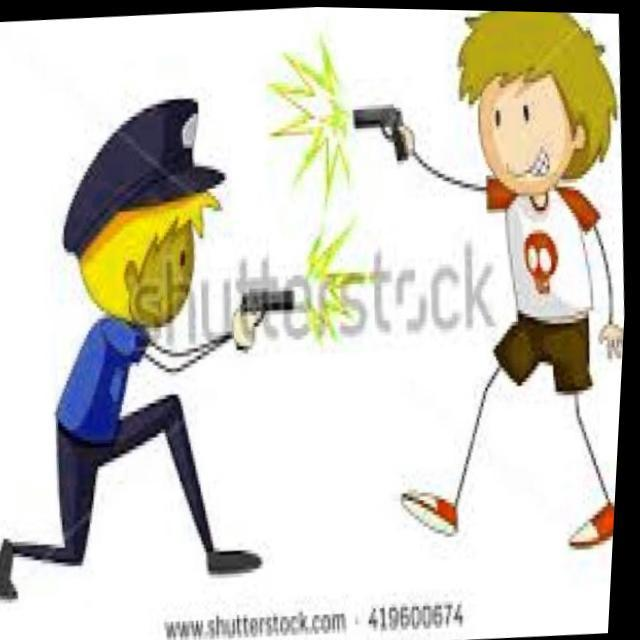weapon: (231, 284, 309, 362), (346, 96, 414, 172)
